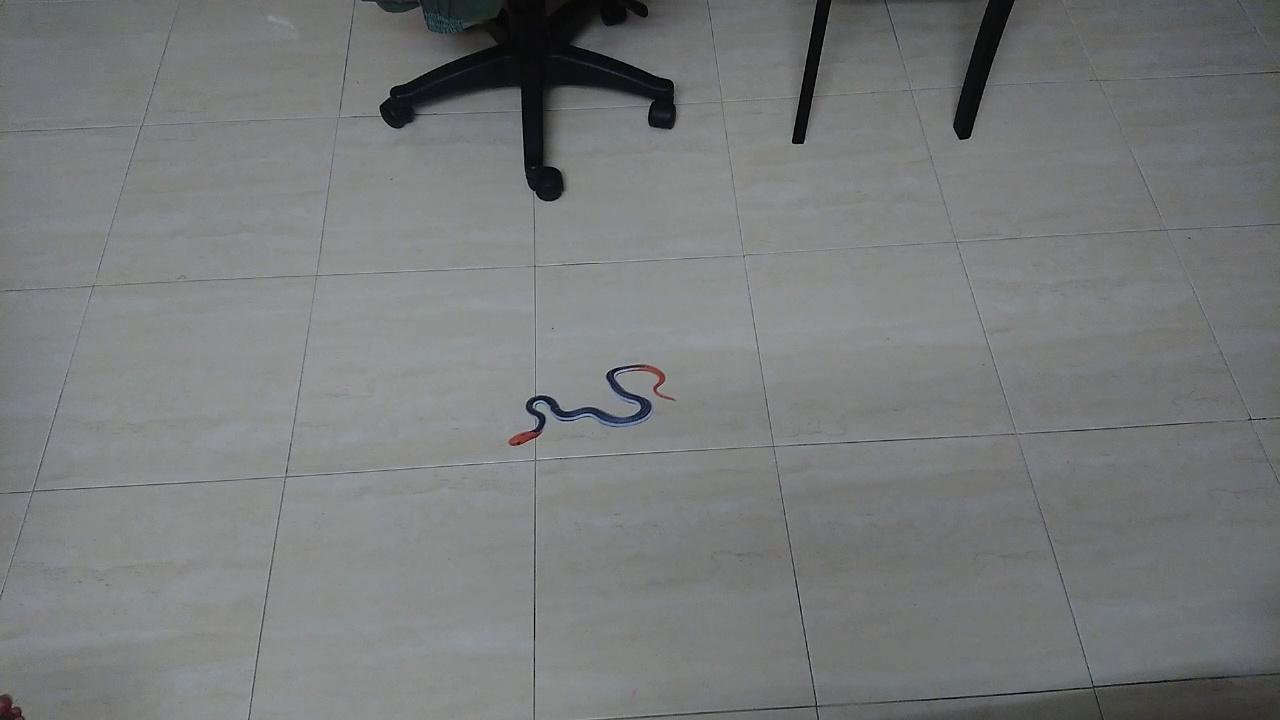snake: (498, 352, 685, 465)
